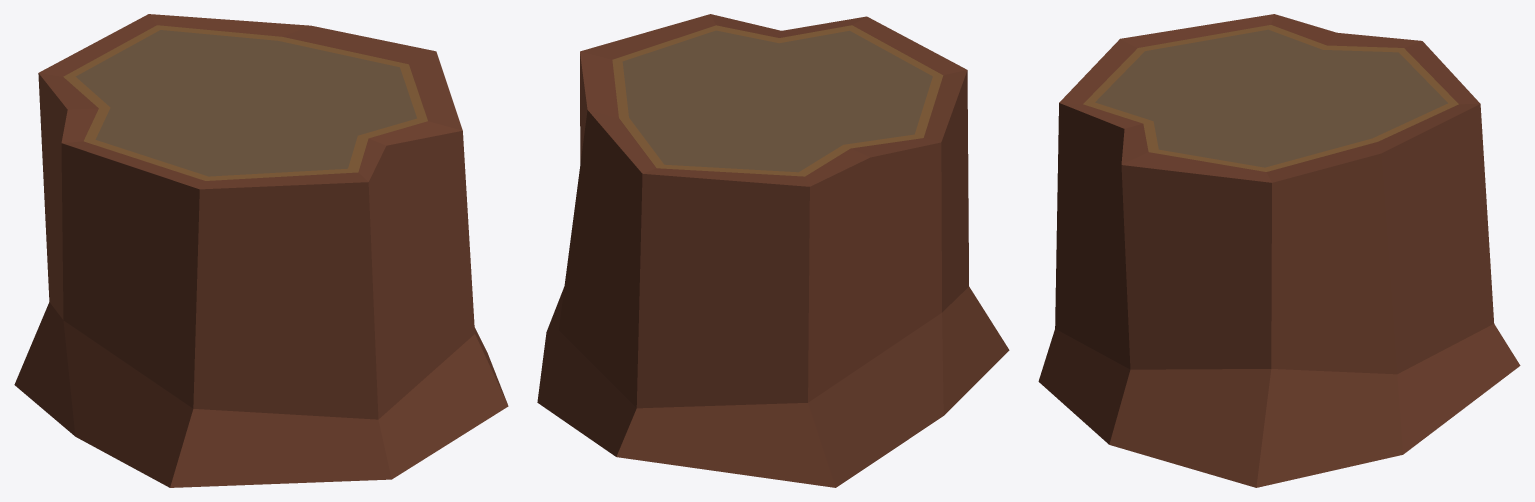
File: Stump.glb
3 views of the same model, side by side, from view 1: azimuth 30°, elevation 25°; view 2: azimuth 150°, elevation 25°; view 3: azimuth 270°, elevation 25° (orthographic). The views are drawn at different scales.
Parts seen in each view (by area): view 1: Stump2; view 2: Stump2; view 3: Stump2.
Part boxes in pixels (left/top/right/bottom): Stump2: left=14, top=14, right=508, bottom=487; Stump2: left=537, top=14, right=1009, bottom=487; Stump2: left=1038, top=14, right=1520, bottom=487.
Size of the model in its own units: 0.9559 by 0.6755 by 1.03.
1 material, 1 textured.
